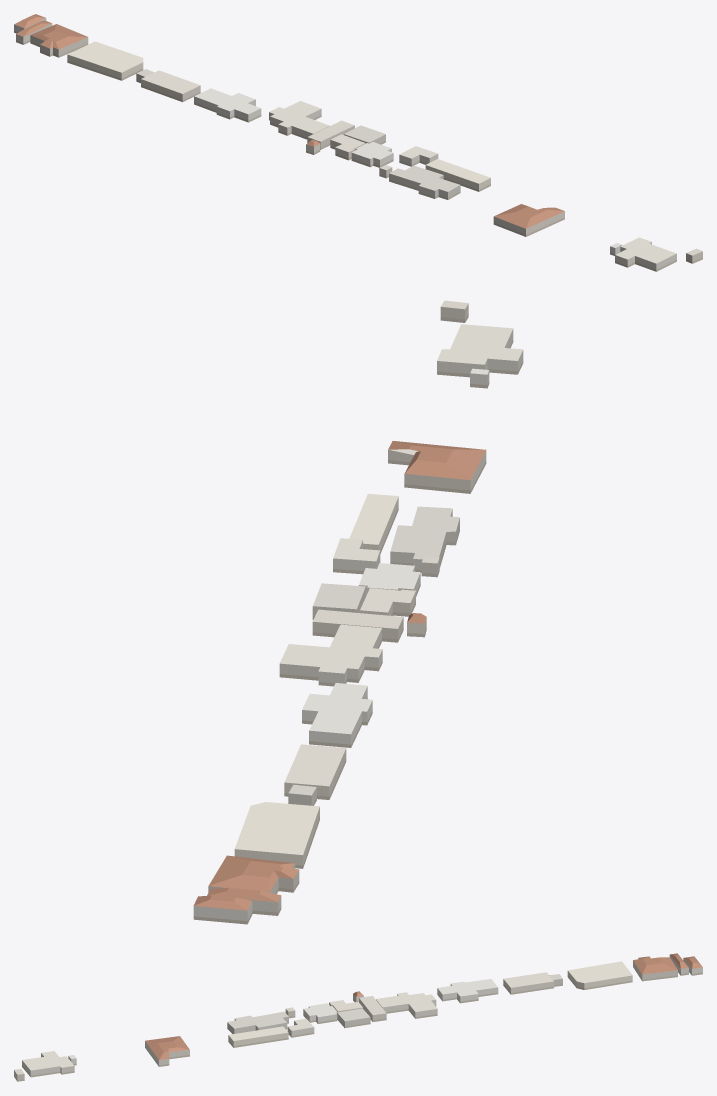
Rendered from nw_bubali.glb.
The picture shows the model from 3 angles, top to bottom: view 1: azimuth 30°, elevation 25°; view 2: azimuth 150°, elevation 25°; view 3: azimuth 270°, elevation 25°; orthographic projection. The views are drawn at different scales.
Parts seen in each view (by area): view 1: nw_bubali_lod0; view 2: nw_bubali_lod0; view 3: nw_bubali_lod0.
Boxes of the visible parts, bbox=[...] form: nw_bubali_lod0: bbox=[14, 14, 702, 271]; nw_bubali_lod0: bbox=[193, 300, 523, 924]; nw_bubali_lod0: bbox=[14, 953, 702, 1081].
Size of what is drawn, in the model's own units: 139 by 10.82 by 336.
